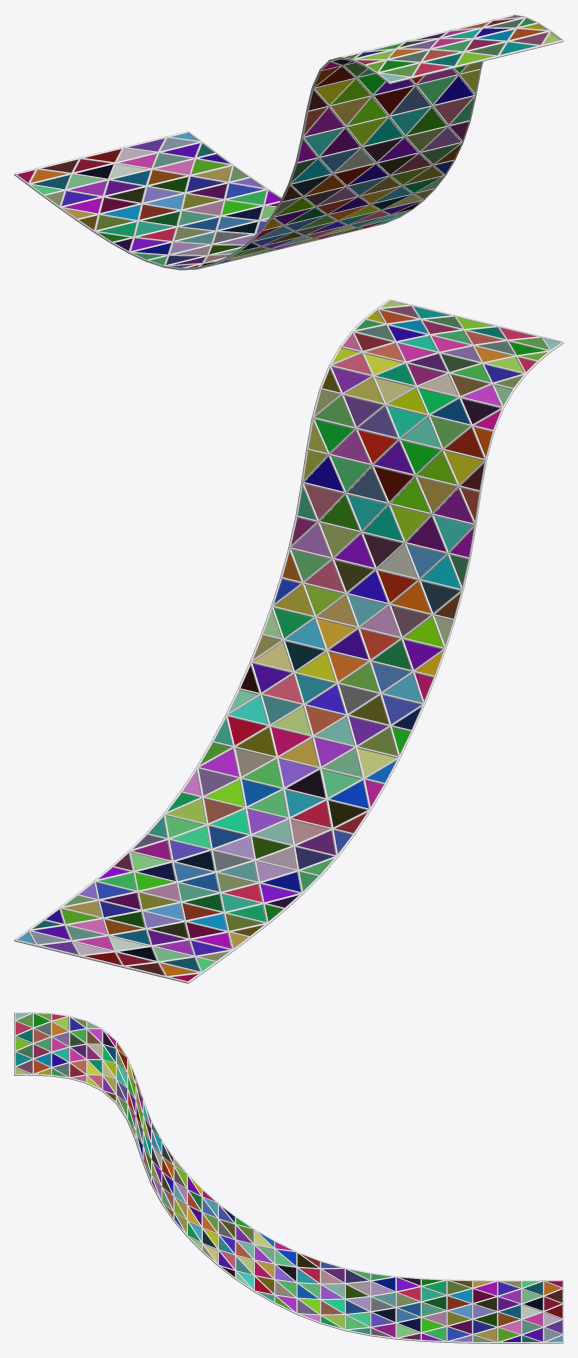
Rendered from heiligeweg.fbx.
3 renders of one model, top to bottom at view 1: azimuth 30°, elevation 25°; view 2: azimuth 150°, elevation 25°; view 3: azimuth 270°, elevation 25°, orthographic. The views are drawn at different scales.
Visible parts, largest first — view 1: export_heiligeweg, export_heiligeweg_frame; view 2: export_heiligeweg, export_heiligeweg_frame; view 3: export_heiligeweg, export_heiligeweg_frame.
Boxes of the visible parts, x1,y1,x2,y2 form: export_heiligeweg: [17, 16, 559, 267]; export_heiligeweg_frame: [14, 14, 563, 270]; export_heiligeweg: [18, 301, 560, 981]; export_heiligeweg_frame: [14, 299, 563, 983]; export_heiligeweg: [15, 1013, 562, 1341]; export_heiligeweg_frame: [14, 1012, 563, 1343].
Bounding box in the file's own units: 8.1 × 16.29 × 30.1.
